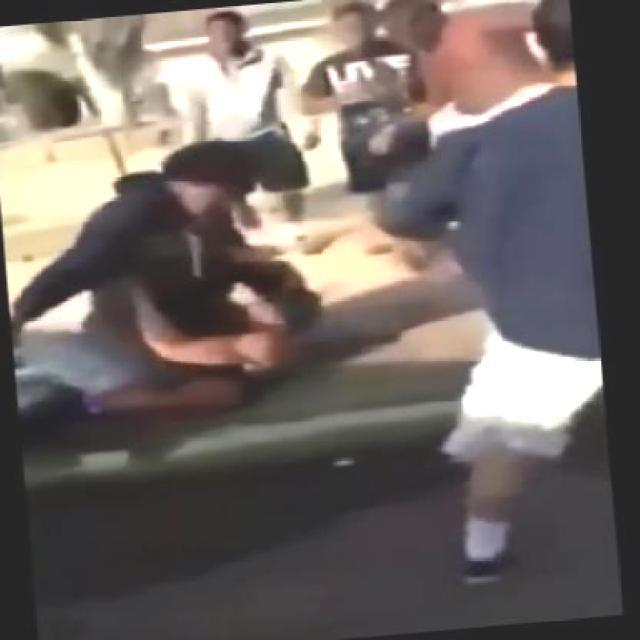fight: (0, 130, 323, 424)
